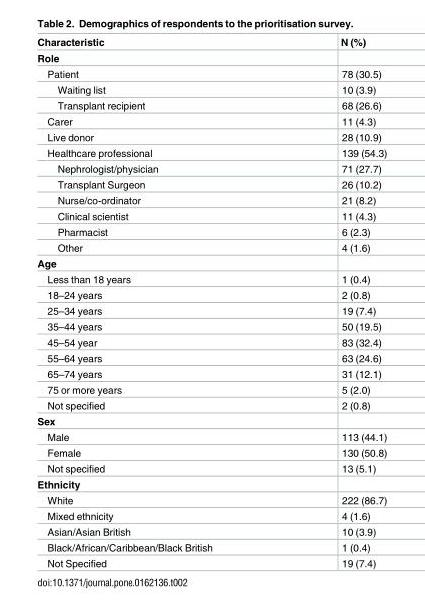table: (36, 37, 386, 568)
table column: (36, 37, 275, 568), (275, 37, 386, 568)
table column header: (36, 37, 386, 50)
table projected row header: (36, 50, 386, 66), (36, 255, 386, 271), (36, 413, 386, 429), (36, 476, 386, 492)
table row: (36, 50, 386, 66), (36, 66, 386, 82), (36, 97, 386, 113), (36, 113, 386, 129), (36, 129, 386, 145), (36, 145, 386, 161), (36, 176, 386, 192), (36, 192, 386, 208), (36, 208, 386, 224), (36, 224, 386, 240), (36, 255, 386, 271), (36, 271, 386, 287), (36, 287, 386, 303), (36, 318, 386, 334), (36, 334, 386, 350), (36, 350, 386, 366), (36, 366, 386, 382), (36, 397, 386, 413), (36, 413, 386, 429), (36, 429, 386, 445), (36, 460, 386, 476), (36, 476, 386, 492), (36, 492, 386, 508), (36, 508, 386, 524), (36, 539, 386, 555), (36, 82, 386, 97), (36, 161, 386, 176), (36, 240, 386, 255), (36, 303, 386, 318), (36, 382, 386, 397), (36, 445, 386, 460), (36, 524, 386, 539), (36, 37, 386, 50), (36, 555, 386, 568)
